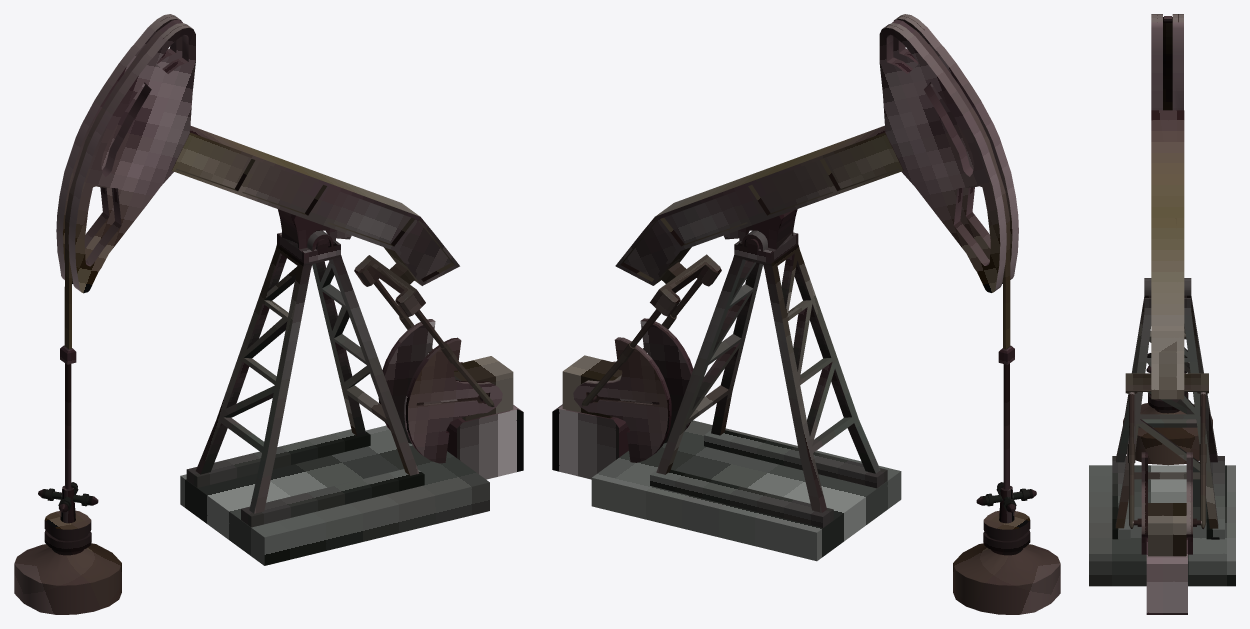
Rendered from oil_pump_jack.glb.
3 renders of one model, left to right at view 1: azimuth 30°, elevation 25°; view 2: azimuth 150°, elevation 25°; view 3: azimuth 270°, elevation 25°, orthographic. The views are drawn at different scales.
Parts seen in each view (by area): view 1: Oil Pump; view 2: Oil Pump; view 3: Oil Pump.
Boxes of the visible parts, x1,y1,x2,y2 form: Oil Pump: (14, 14, 523, 614); Oil Pump: (552, 14, 1060, 614); Oil Pump: (1089, 14, 1235, 614).
Size of the model in its own units: 4.43 by 4.74 by 1.33.
Materials: 1 (1 with a texture image).
